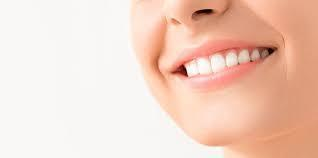normal: (209, 51, 226, 75), (196, 56, 213, 77), (225, 49, 240, 67), (238, 47, 252, 65), (249, 47, 261, 63), (182, 62, 193, 79), (191, 58, 200, 76), (261, 48, 272, 59)
